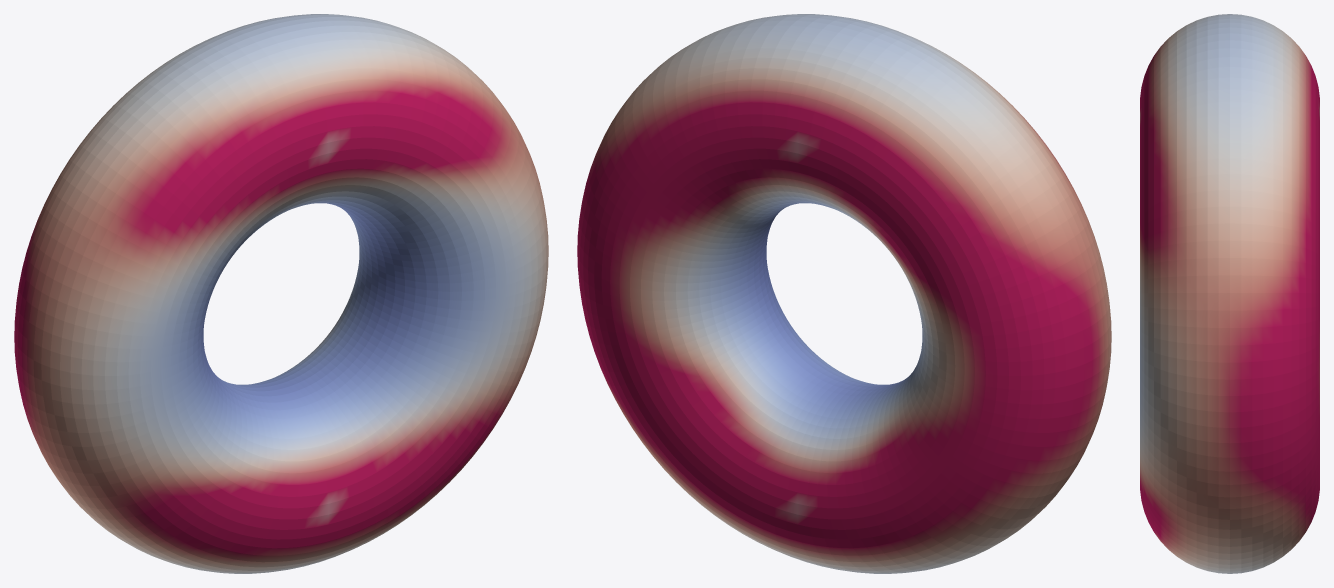
3 renders of one model, left to right at view 1: azimuth 30°, elevation 25°; view 2: azimuth 150°, elevation 25°; view 3: azimuth 270°, elevation 25°, orthographic. The views are drawn at different scales.
Parts seen in each view (by area): view 1: world; view 2: world; view 3: world.
Part boxes in pixels (box(x1,y1,x2,y2)): world: box(14, 14, 548, 573); world: box(577, 14, 1111, 573); world: box(1140, 14, 1319, 573).
Size of the model in its own units: 23.6 by 23.6 by 7.59.
